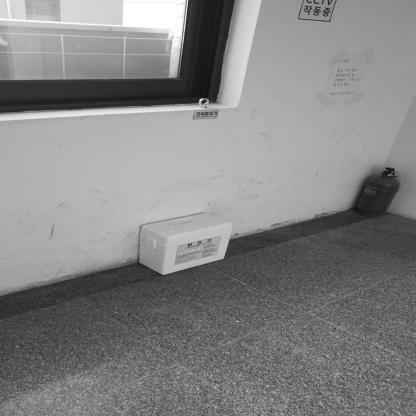DDL: (139, 212, 233, 275)
